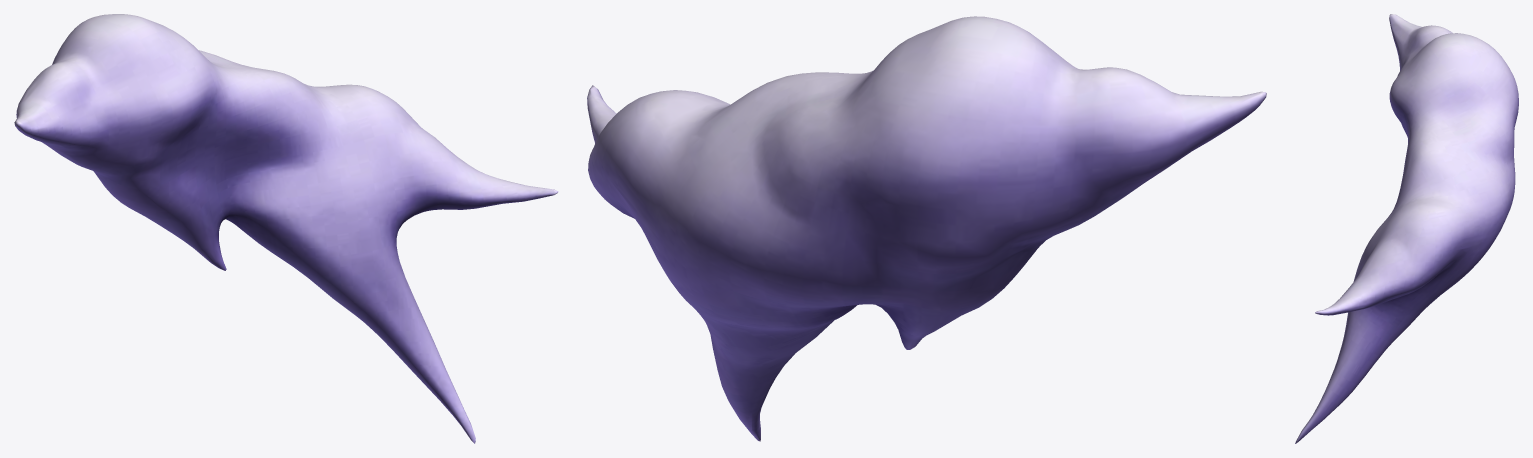
Rendered from sky_cloud_02c_nexus_v35.glb.
3 views of the same model, side by side, from view 1: azimuth 30°, elevation 25°; view 2: azimuth 150°, elevation 25°; view 3: azimuth 270°, elevation 25° (orthographic). The views are drawn at different scales.
Parts seen in each view (by area): view 1: cloud_02c; view 2: cloud_02c; view 3: cloud_02c.
Boxes of the visible parts, <box> form: cloud_02c: <box>14,14,558,443</box>; cloud_02c: <box>587,16,1266,441</box>; cloud_02c: <box>1295,14,1518,443</box>.
Bounding box in the file's own units: 58.42 × 46.42 × 30.19.
Materials: 1 (1 with a texture image).
